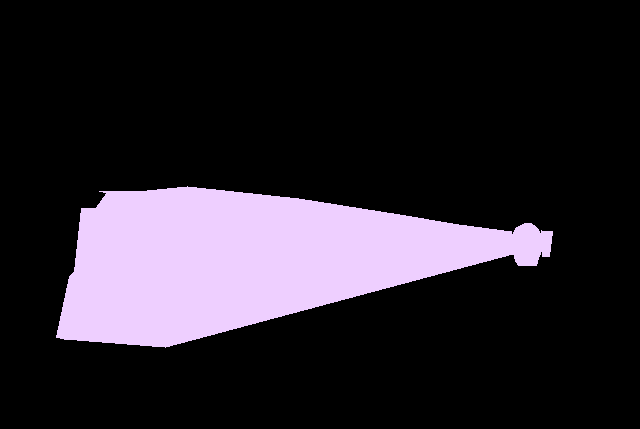Train: (56, 186, 512, 347), (512, 223, 543, 265), (541, 230, 553, 256)
